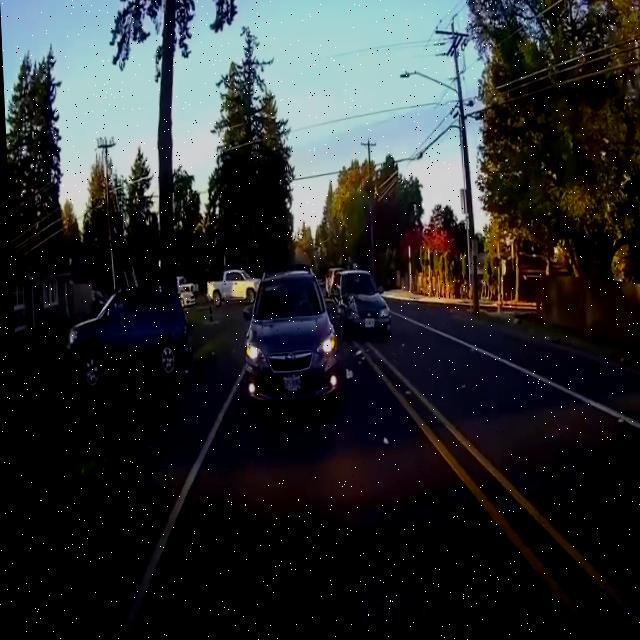normal: (207, 255, 340, 432)
